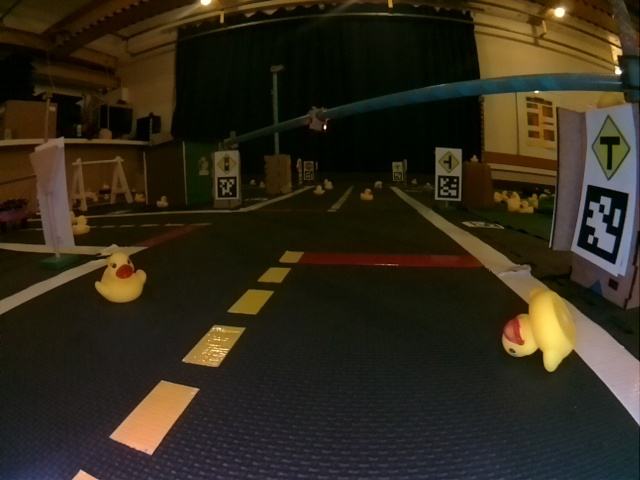Duckie: (502, 288, 576, 372), (96, 253, 145, 302), (72, 215, 87, 235), (519, 201, 534, 214), (360, 188, 373, 200), (157, 197, 169, 206), (314, 185, 323, 194)
Intersection sign: (590, 114, 632, 182), (438, 150, 460, 173), (394, 163, 403, 172)
QR code: (575, 184, 624, 264), (436, 176, 461, 199), (217, 177, 238, 198), (393, 172, 403, 181), (304, 172, 314, 180)
Signal sign: (217, 153, 237, 174)
Stop sign: (304, 161, 313, 170)
Traffic light: (309, 106, 329, 133)
